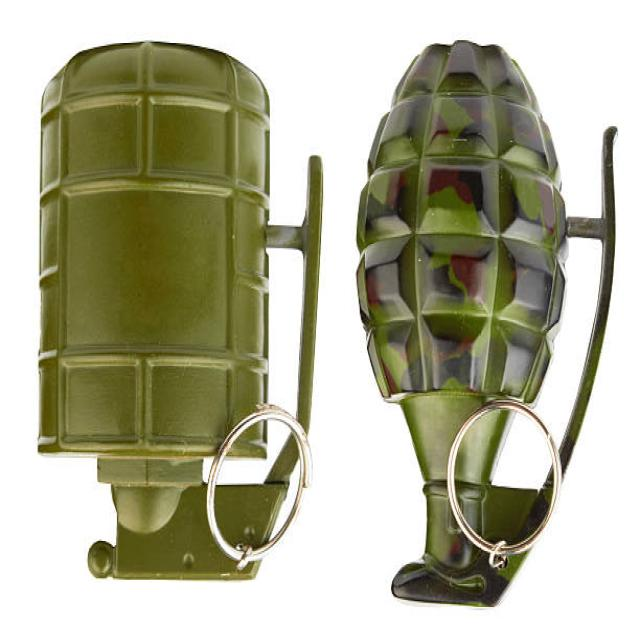grenade: (24, 19, 342, 609), (353, 35, 629, 619)
